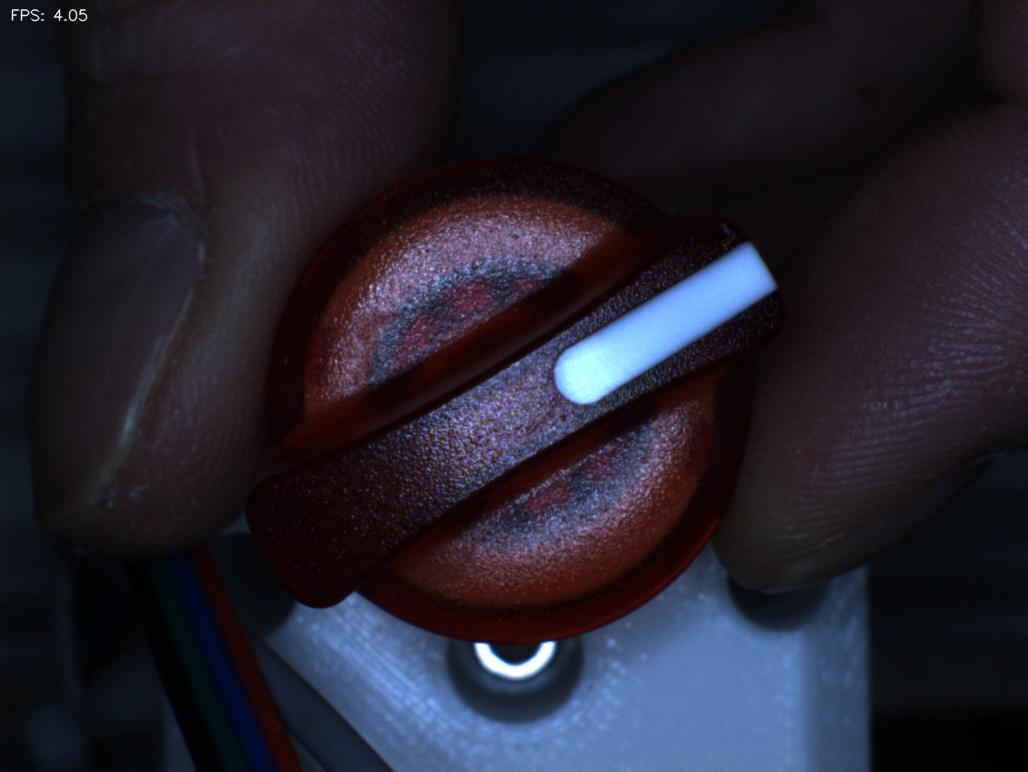Choc: (647, 175, 754, 279)
